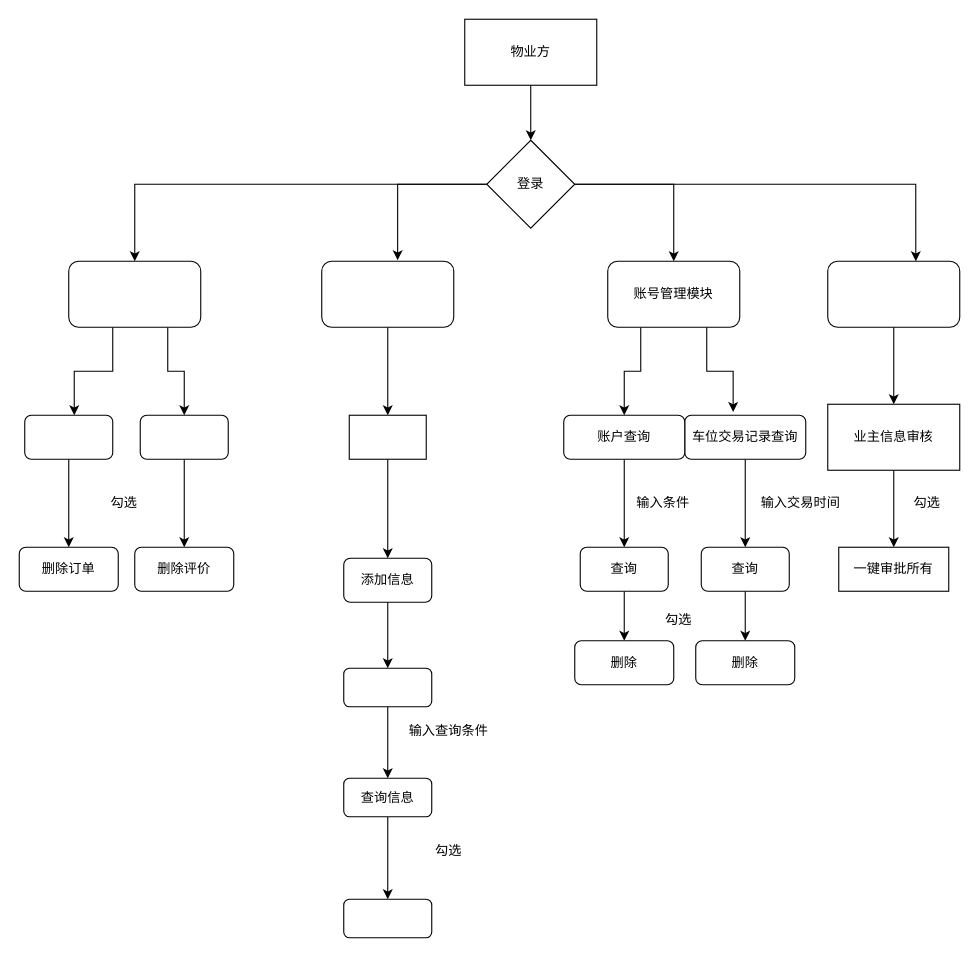
Image size: 979x957. Some labels were removed from this diagram. Each missing label, with the centre of its shape:
"修改信息" belongs at (x=387, y=687).
"删除信息" belongs at (x=387, y=918).
"审核管理模块" belongs at (x=893, y=293).
"查看订单" belongs at (x=68, y=436).
"物业方信息" belongs at (x=387, y=436).
"用户管理模块" belongs at (x=387, y=293).
"订单管理模块" belongs at (x=134, y=293).
"评价管理" belongs at (x=183, y=436).
